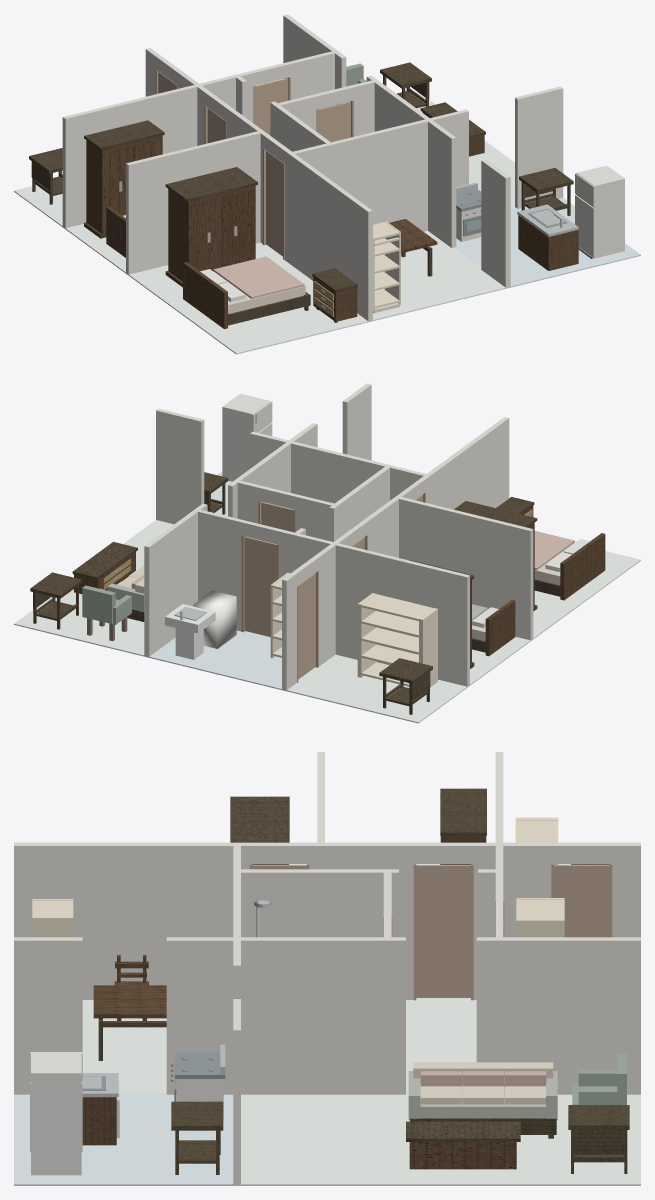
The picture shows the model from 3 angles, top to bottom: view 1: azimuth 30°, elevation 25°; view 2: azimuth 150°, elevation 25°; view 3: azimuth 270°, elevation 25°; orthographic projection. The views are drawn at different scales.
Parts seen in each view (by area): view 1: H38_WALL_12, H38_WALL_05, H38_WALL_16, H38_WALL_17, H38_FLOOR_07_QUARTO_CASAL, H38_FLOOR_02_COPA, H38_WALL_03, H38_WALL_00, H38_WALL_02, H38_FLOOR_00_COZINHA, H38_FURN_00_fridge__05__gabinete, H38_FURN_19_wardrobe__04__porta_esquerda (+43 smaller); view 2: H38_WALL_16, H38_WALL_17, H38_WALL_04, H38_WALL_12, H38_WALL_00, H38_FLOOR_09_DEPOSITO, H38_WALL_05, H38_FLOOR_01_ESTAR_/_RADIOS, H38_FLOOR_05_LAVANDERIA, H38_WALL_08, H38_DOOR_01_LEAF, H38_FURN_00_fridge__05__gabinete (+36 smaller); view 3: H38_WALL_03, H38_WALL_12, H38_FLOOR_01_ESTAR_/_RADIOS, H38_WALL_04, H38_FLOOR_00_COZINHA, H38_WALL_10, H38_WALL_02, H38_DOOR_03_LEAF, H38_FURN_00_fridge__05__gabinete, H38_FLOOR_02_COPA, H38_WALL_14, H38_WALL_13 (+40 smaller).
Part boxes in pixels (box(x1,y1,x2,y2)): H38_WALL_12: box(284, 149, 372, 321); H38_WALL_05: box(290, 119, 429, 231); H38_WALL_16: box(126, 131, 262, 274); H38_WALL_17: box(62, 85, 197, 228); H38_FLOOR_07_QUARTO_CASAL: box(127, 242, 370, 354); H38_FLOOR_02_COPA: box(370, 231, 507, 321); H38_WALL_03: box(366, 75, 456, 247); H38_WALL_00: box(515, 86, 563, 208); H38_WALL_02: box(481, 159, 510, 287); H38_FLOOR_00_COZINHA: box(454, 198, 640, 288); H38_FURN_00_fridge__05__gabinete: box(576, 165, 624, 258); H38_FURN_19_wardrobe__04__porta_esquerda: box(222, 188, 255, 266); H38_WALL_16: box(397, 497, 533, 640); H38_WALL_17: box(334, 543, 469, 686); H38_WALL_04: box(144, 503, 207, 656); H38_WALL_12: box(420, 417, 509, 509); H38_WALL_00: box(156, 408, 204, 524); H38_FLOOR_09_DEPOSITO: box(284, 654, 468, 723); H38_WALL_05: box(289, 441, 425, 509); H38_FLOOR_01_ESTAR_/_RADIOS: box(14, 520, 173, 657); H38_FLOOR_05_LAVANDERIA: box(147, 630, 284, 690); H38_WALL_08: box(196, 509, 244, 631); H38_DOOR_01_LEAF: box(244, 536, 276, 636); H38_FURN_00_fridge__05__gabinete: box(222, 393, 270, 481); H38_WALL_03: box(166, 937, 405, 1094); H38_WALL_12: box(14, 842, 251, 999); H38_FLOOR_01_ESTAR_/_RADIOS: box(237, 1093, 640, 1185); H38_WALL_04: box(476, 937, 640, 1094); H38_FLOOR_00_COZINHA: box(14, 1093, 237, 1185); H38_WALL_10: box(237, 869, 398, 937); H38_WALL_02: box(14, 937, 82, 1094); H38_DOOR_03_LEAF: box(416, 865, 470, 997); H38_FURN_00_fridge__05__gabinete: box(31, 1052, 81, 1175); H38_FLOOR_02_COPA: box(82, 1000, 166, 1092); H38_WALL_14: box(472, 842, 552, 999); H38_WALL_13: box(308, 842, 414, 999).
Bounding box in the file's own units: 9.41 × 2.46 × 8.96.
22 materials, 3 textured.
